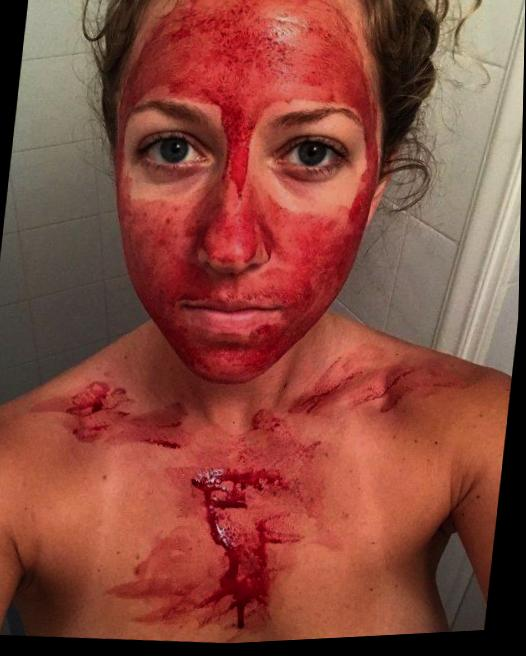Fire: (115, 0, 384, 386), (111, 472, 310, 634), (292, 363, 447, 419), (66, 382, 187, 452), (241, 413, 319, 485)
